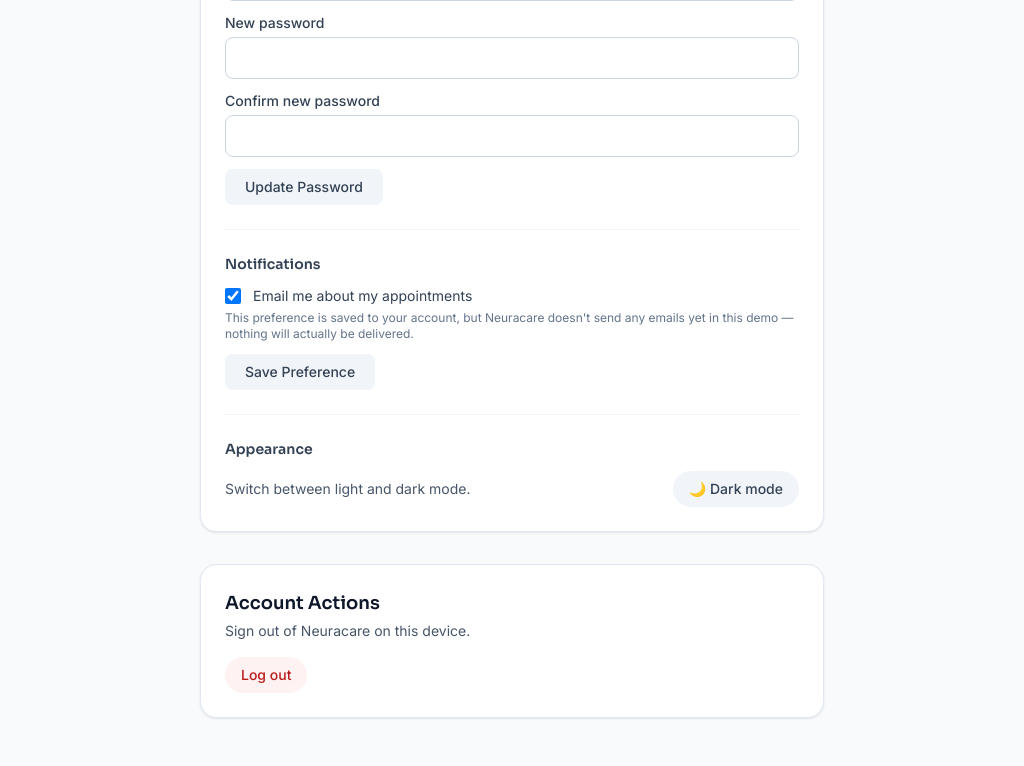
Scenario: Profile › toggles dark mode from the appearance section
(page scrolled)
Click the button "🌙 Dark mode": (736, 489) [673,471,799,507]
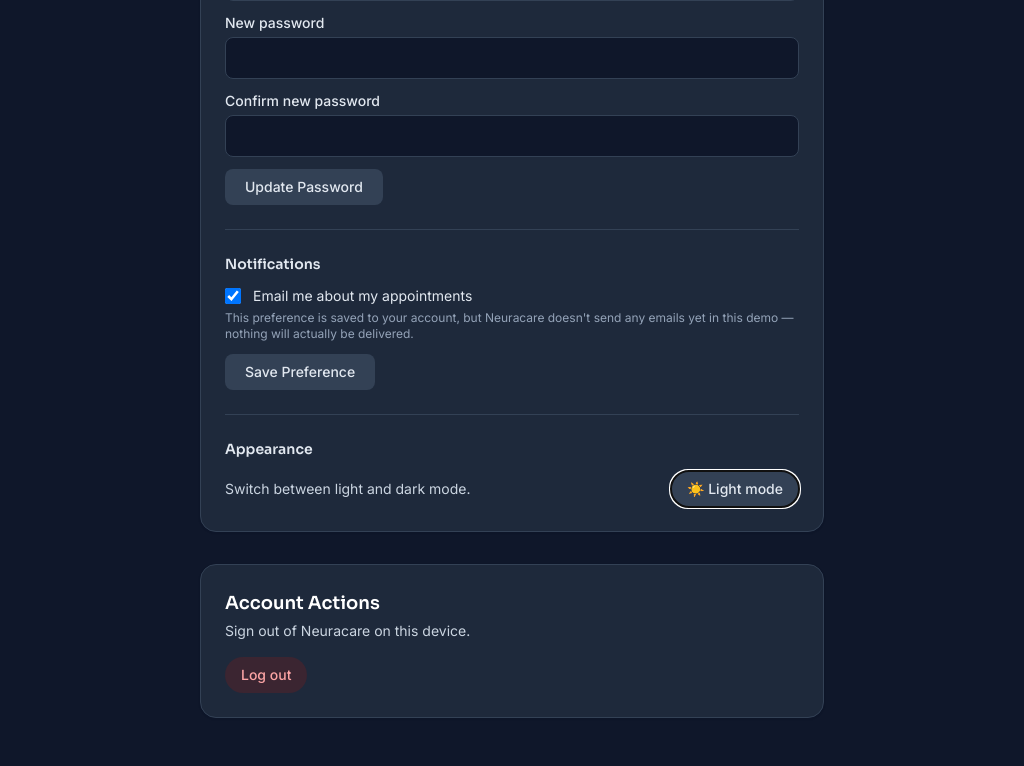
Now the button "☀️ Light mode" is shown, box [671,471,799,507]
